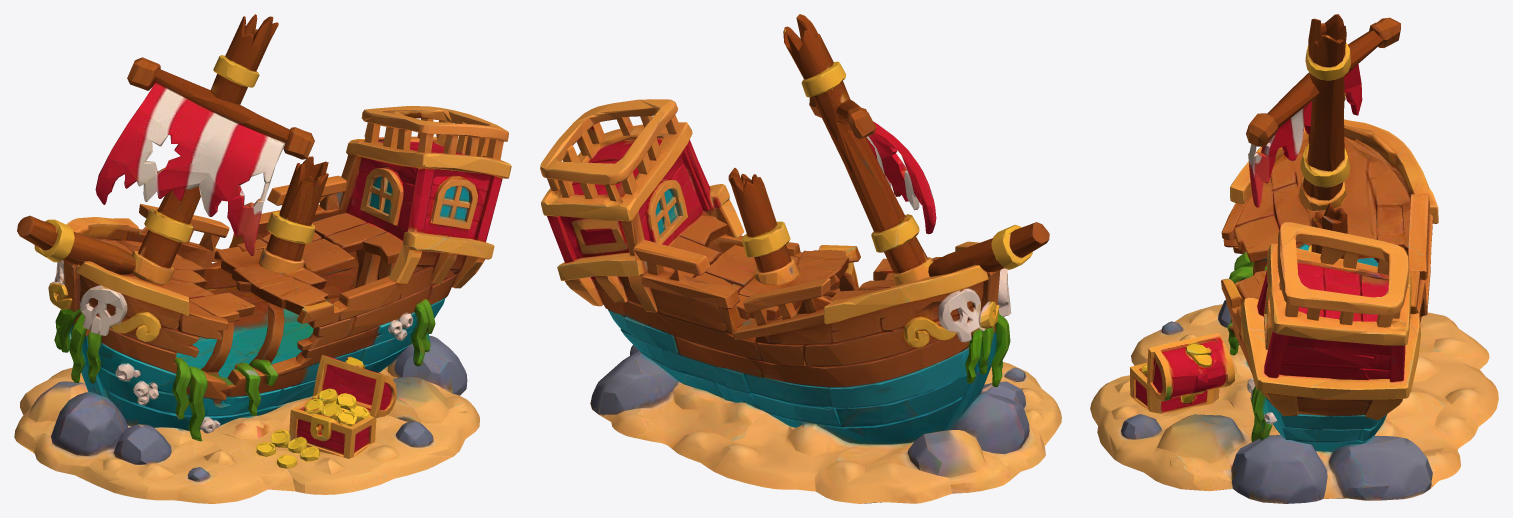
The model's file is shipwreck.glb.
3 views of the same model, side by side, from view 1: azimuth 30°, elevation 25°; view 2: azimuth 150°, elevation 25°; view 3: azimuth 270°, elevation 25° (orthographic). The views are drawn at different scales.
Parts seen in each view (by area): view 1: shipwreck; view 2: shipwreck; view 3: shipwreck.
Boxes of the visible parts, <box> form: shipwreck: <box>14,14,511,503</box>; shipwreck: <box>540,14,1061,503</box>; shipwreck: <box>1090,14,1498,503</box>.
Bounding box in the file's own units: 15.29 × 12 × 11.13.
1 material, 1 textured.
